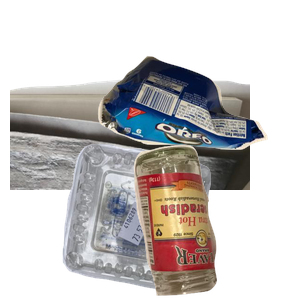glass: (131, 142, 300, 300)
paper: (10, 77, 250, 257)
plastic: (60, 141, 263, 300)
trash: (95, 53, 300, 195)
